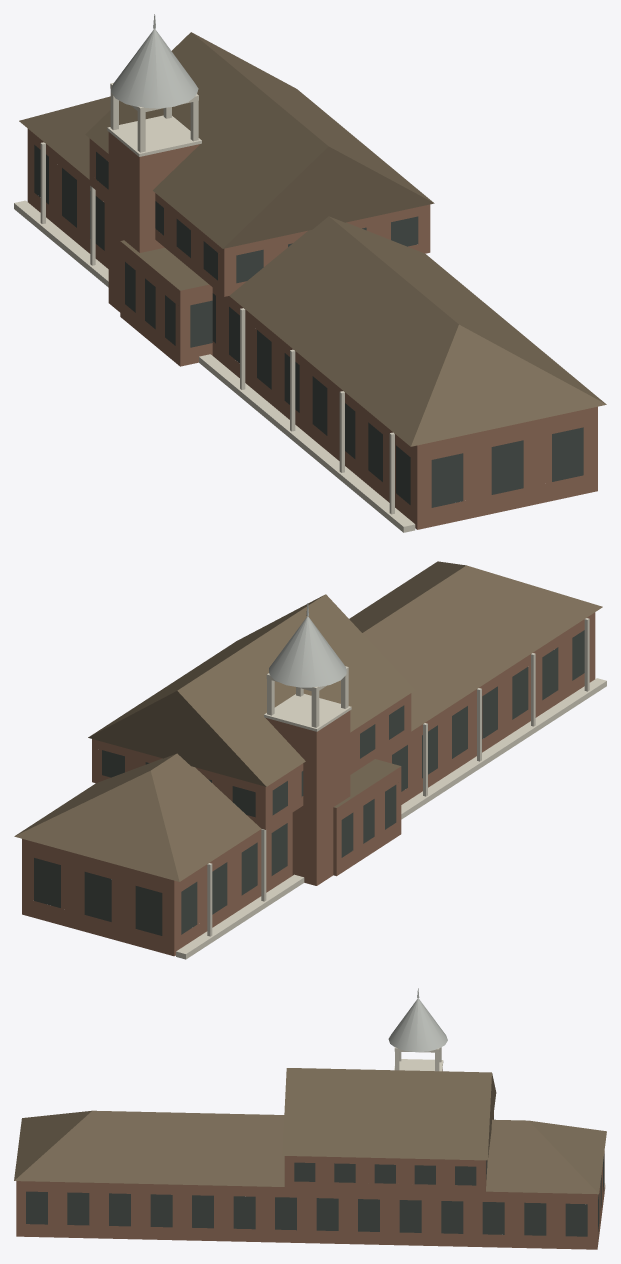
The model's file is perris-depot-near.glb.
3 renders of one model, top to bottom at view 1: azimuth 30°, elevation 25°; view 2: azimuth 150°, elevation 25°; view 3: azimuth 270°, elevation 25°, orthographic. The views are drawn at different scales.
Parts seen in each view (by area): view 1: perris-depot-0-roof, perris-depot-0-stone, perris-depot-0-glass, perris-depot-0-trim, perris-depot-0-metal; view 2: perris-depot-0-roof, perris-depot-0-stone, perris-depot-0-glass, perris-depot-0-trim, perris-depot-0-metal; view 3: perris-depot-0-roof, perris-depot-0-stone, perris-depot-0-glass, perris-depot-0-metal, perris-depot-0-trim.
Part boxes in pixels (x1,y1,x2,y2): perris-depot-0-roof: [19, 32, 606, 446]; perris-depot-0-stone: [27, 129, 597, 529]; perris-depot-0-glass: [34, 145, 583, 507]; perris-depot-0-trim: [14, 82, 415, 532]; perris-depot-0-metal: [111, 14, 198, 108]; perris-depot-0-roof: [14, 561, 602, 881]; perris-depot-0-stone: [22, 612, 595, 956]; perris-depot-0-glass: [34, 630, 584, 935]; perris-depot-0-trim: [176, 618, 606, 959]; perris-depot-0-metal: [269, 603, 346, 687]; perris-depot-0-roof: [14, 1068, 606, 1194]; perris-depot-0-stone: [16, 1069, 604, 1249]; perris-depot-0-glass: [26, 1115, 604, 1236]; perris-depot-0-metal: [388, 988, 447, 1052]; perris-depot-0-trim: [394, 1047, 605, 1190].
Bounding box in the file's own units: 12.38 × 14.8 × 39.79.
